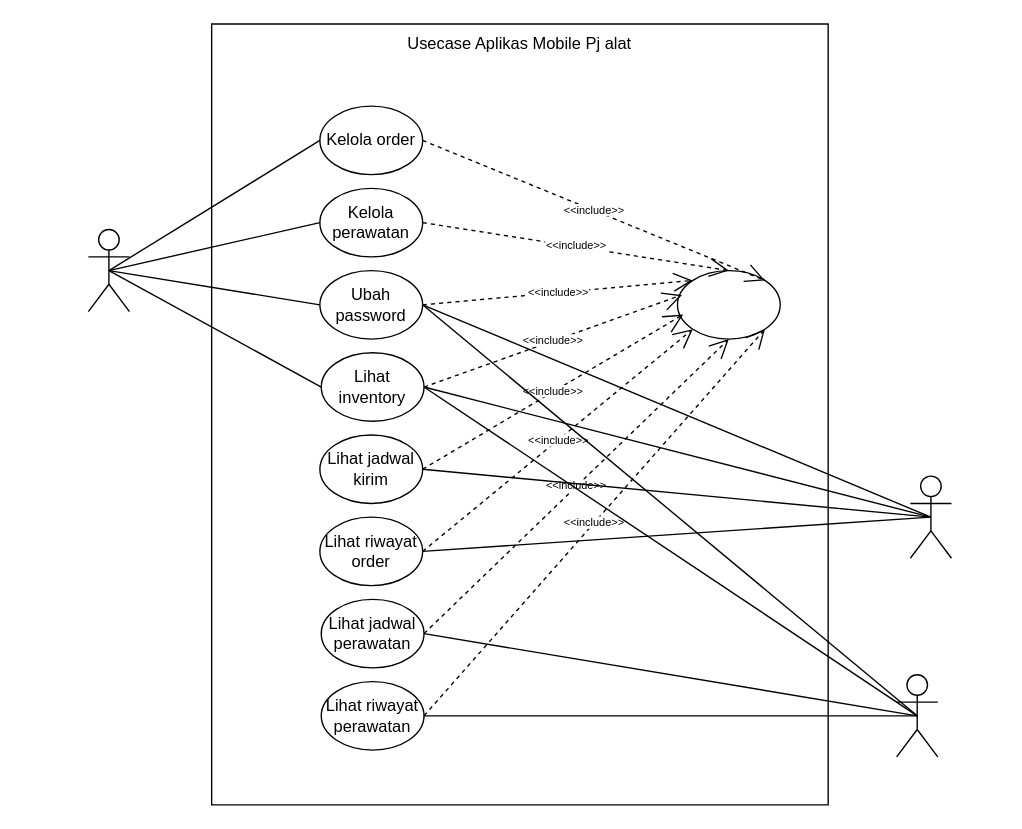
This 1022x829 diagram has some shape labels left out. The box of each missing label's shape, as (x1, y1, x2, y2) in pixels:
Login: (676, 269, 780, 339)
Operator alat: (909, 475, 951, 558)
Operator maintenance: (895, 673, 938, 757)
Penanggung jawab alat: (87, 228, 129, 312)
